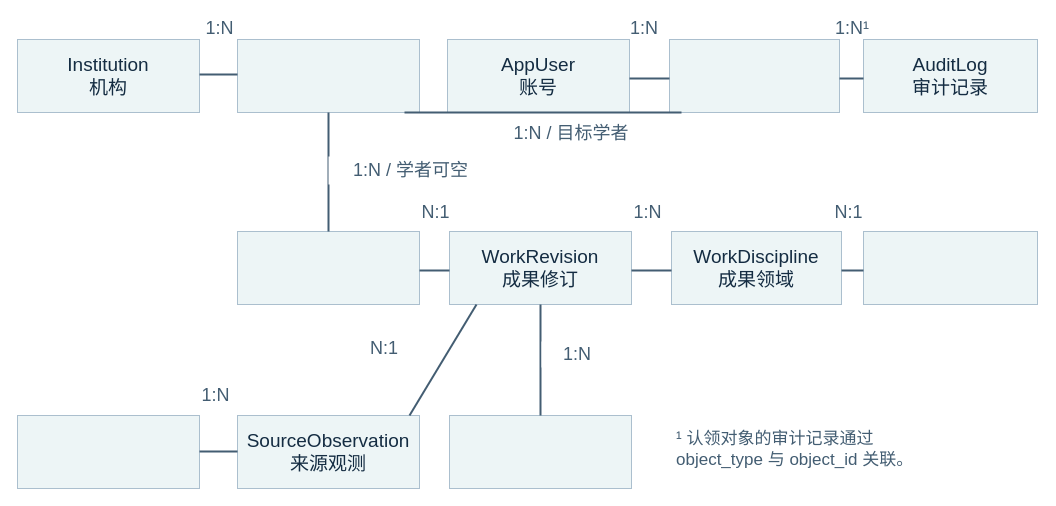
This 1056x506 diagram has some shape labels left out. The shapes that lost their labels are listed below. From the top down, each one's centre as x and y in pixels, then its label:
point 328,75: Scholar 学者
point 754,75: Claim 认领申请
point 328,267: WorkScholar 贡献关系
point 950,267: Discipline 领域
point 108,451: CrawlTask 采集任务
point 540,451: Work 四类型成果
